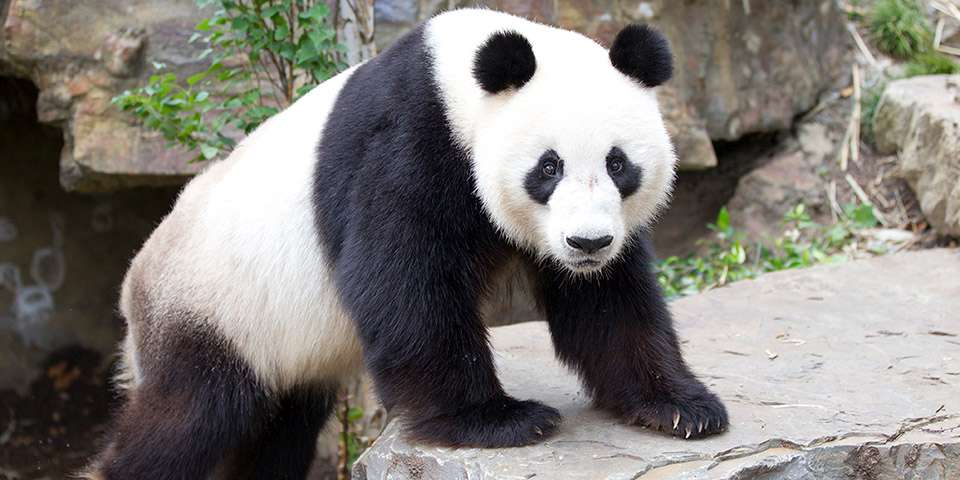Giant panda: (466, 25, 678, 281)
